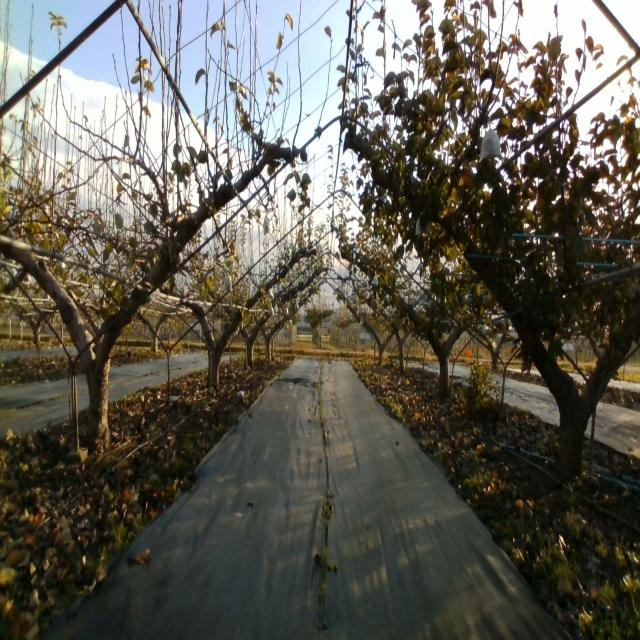pearbags: (478, 122, 503, 164), (222, 271, 233, 292)
